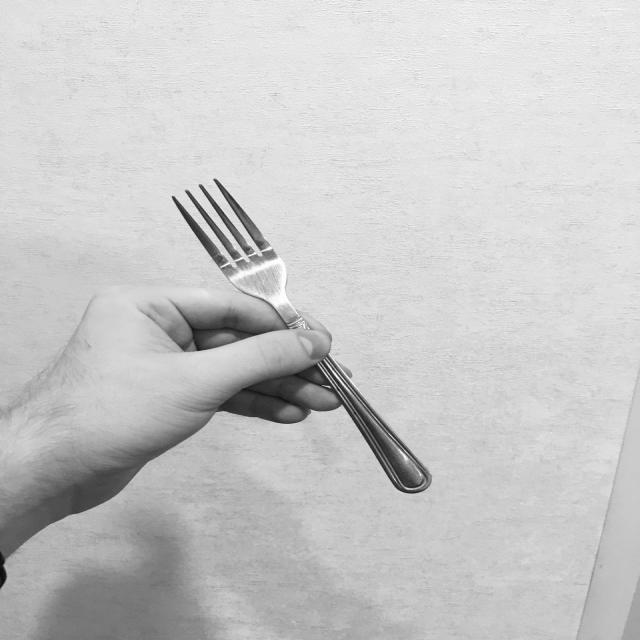fork: (169, 179, 439, 493)
